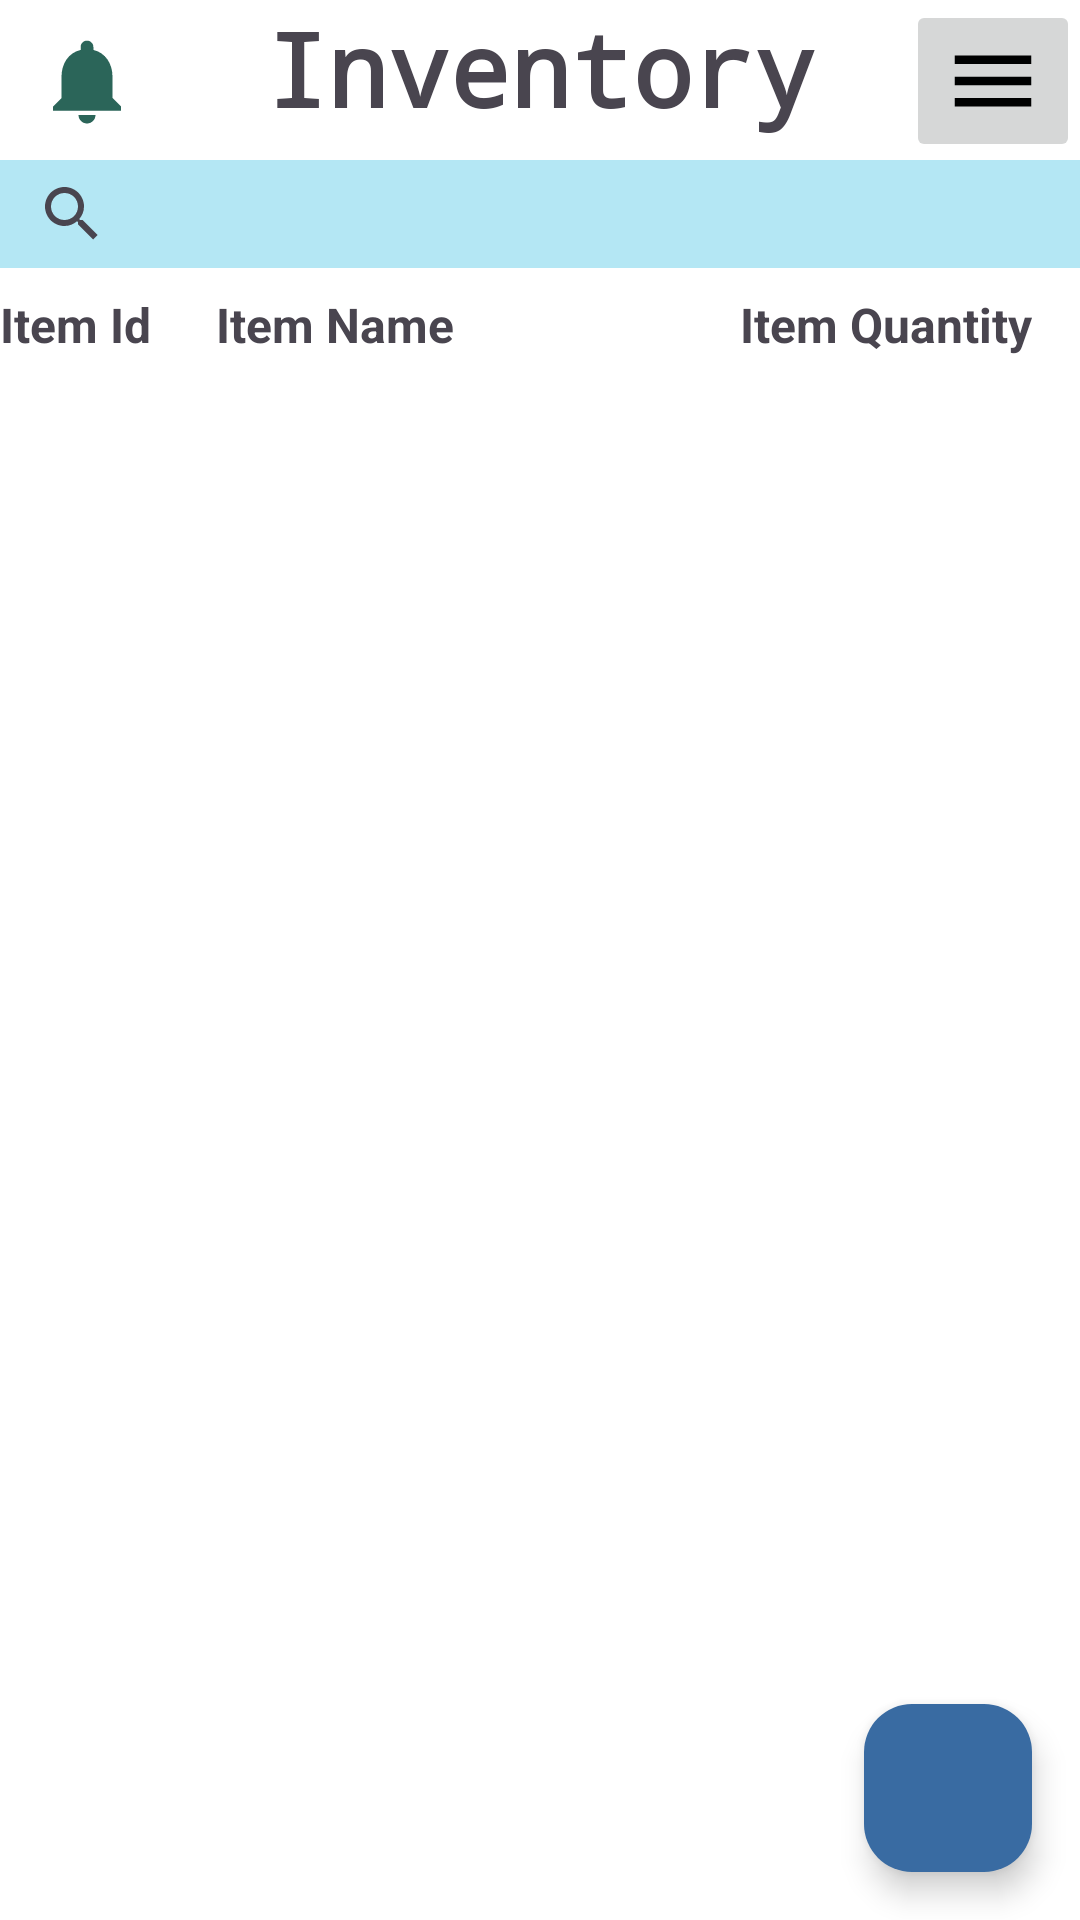

Screen size 1080px x 1920px. Icon name, then its center in pixels as [x,y]:
menu: [993,81]
notifications: [87,81]
